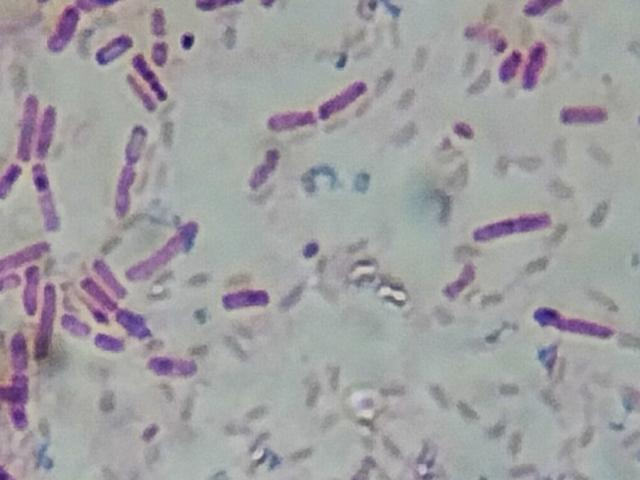E. coli: (126, 222, 204, 282), (537, 302, 615, 344), (468, 207, 552, 242), (116, 124, 146, 222), (29, 162, 66, 235), (4, 336, 33, 429), (317, 80, 378, 118), (248, 145, 292, 193), (37, 289, 63, 363), (145, 349, 199, 383), (264, 100, 318, 131), (125, 53, 155, 108), (80, 276, 116, 320), (562, 99, 607, 131), (0, 242, 54, 268), (219, 286, 267, 314), (24, 261, 46, 322), (50, 8, 80, 52), (92, 28, 128, 64), (20, 88, 37, 159), (94, 251, 124, 291), (2, 157, 26, 203), (37, 95, 54, 157), (150, 12, 170, 64), (526, 39, 547, 87), (120, 309, 152, 339), (62, 310, 90, 342), (498, 44, 521, 80), (96, 328, 123, 358), (522, 0, 560, 21), (190, 0, 241, 15), (0, 274, 24, 294), (179, 29, 199, 52)
